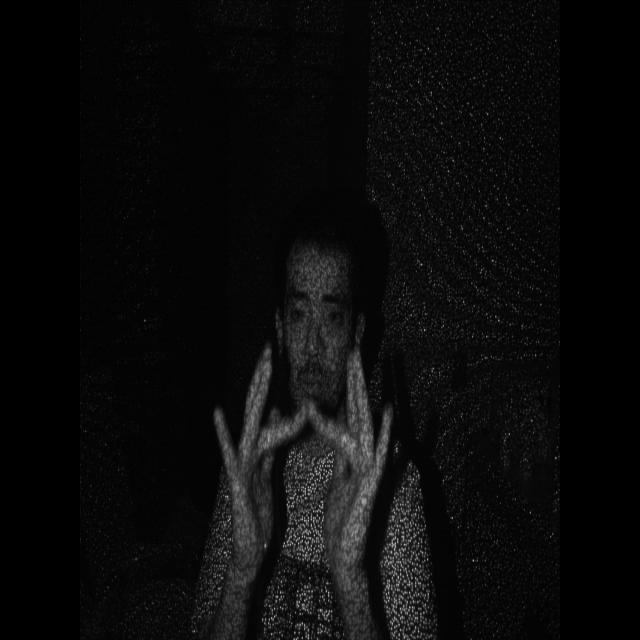REACH: (200, 329, 403, 576)
